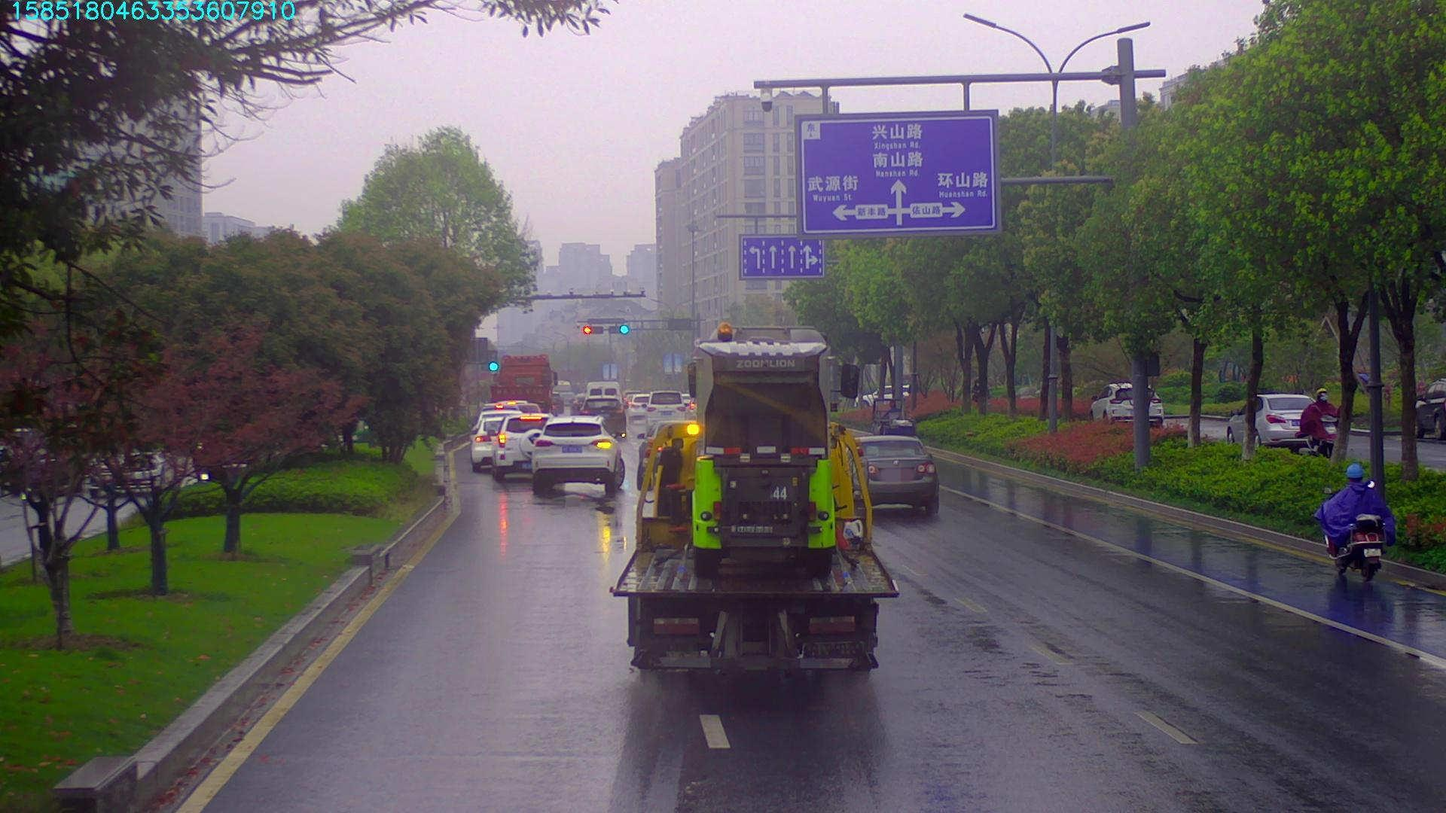green: (605, 324, 627, 335)
red: (580, 325, 602, 335)
